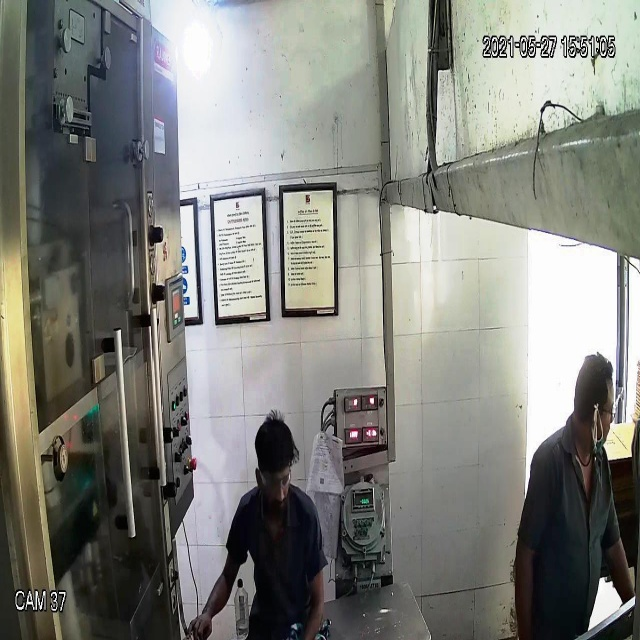Gafas: (251, 457, 295, 496)
